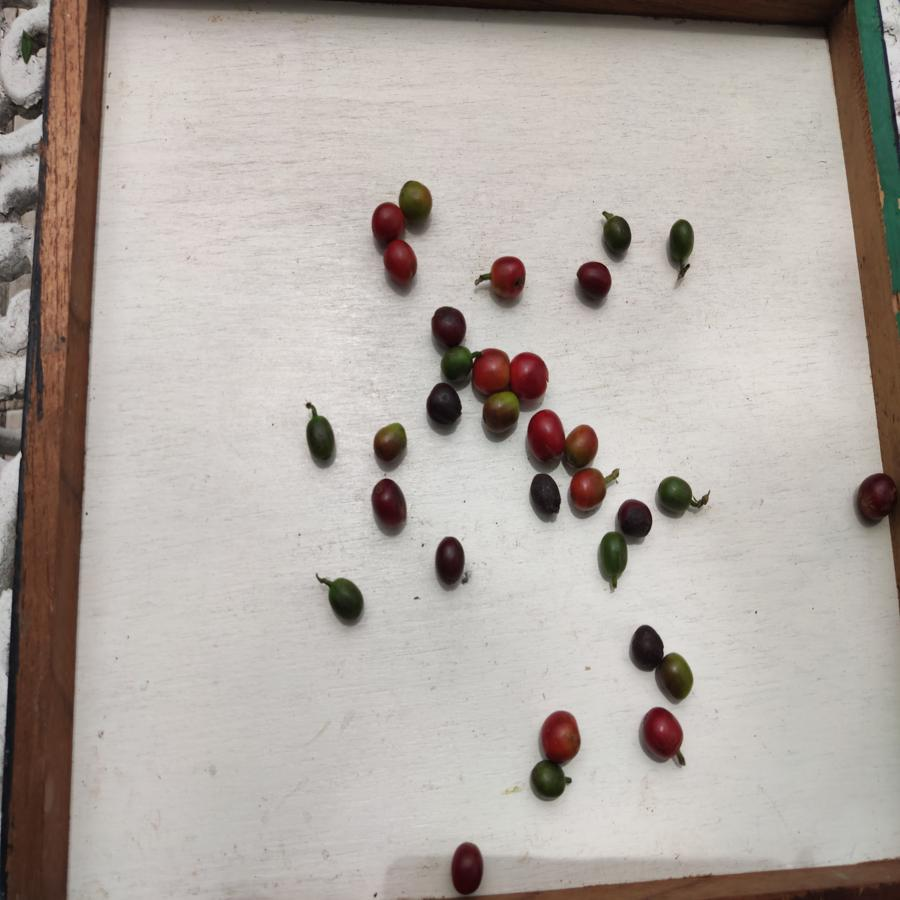Inmaduro: (324, 578, 365, 624), (304, 417, 337, 467), (657, 475, 695, 514), (531, 761, 567, 801), (601, 216, 633, 255), (668, 219, 694, 265), (601, 533, 628, 575), (441, 348, 472, 381)
Maduro: (639, 706, 685, 762), (538, 710, 584, 762), (527, 407, 565, 466), (510, 349, 548, 400), (382, 239, 419, 289), (471, 347, 511, 392), (489, 256, 526, 302), (569, 469, 607, 511), (372, 203, 405, 242)
Pinton: (660, 651, 694, 701), (481, 393, 518, 434), (564, 425, 600, 467), (399, 179, 434, 220), (372, 423, 409, 459)
Sobremaduro: (856, 472, 897, 525), (448, 841, 486, 895), (369, 478, 406, 526), (428, 305, 471, 346), (628, 624, 665, 671), (426, 382, 463, 426), (528, 472, 562, 518), (577, 260, 613, 302), (435, 536, 466, 583), (618, 499, 653, 538)
